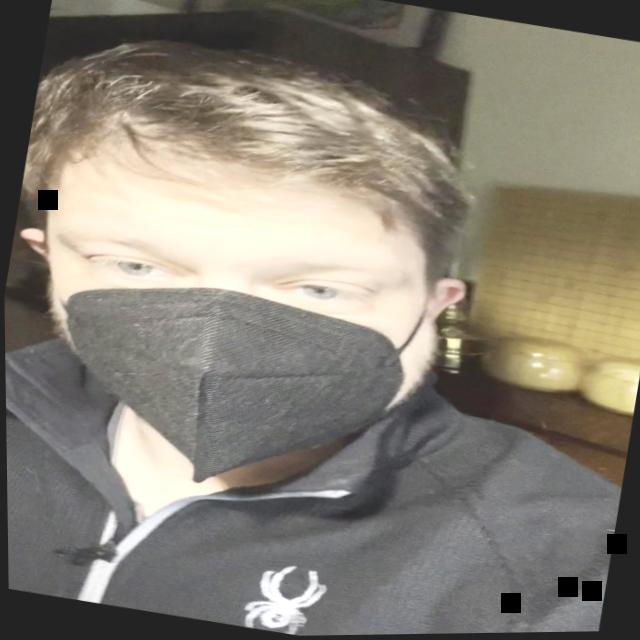Mask: (4, 145, 464, 523)
